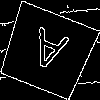A: (22, 25, 70, 81)
